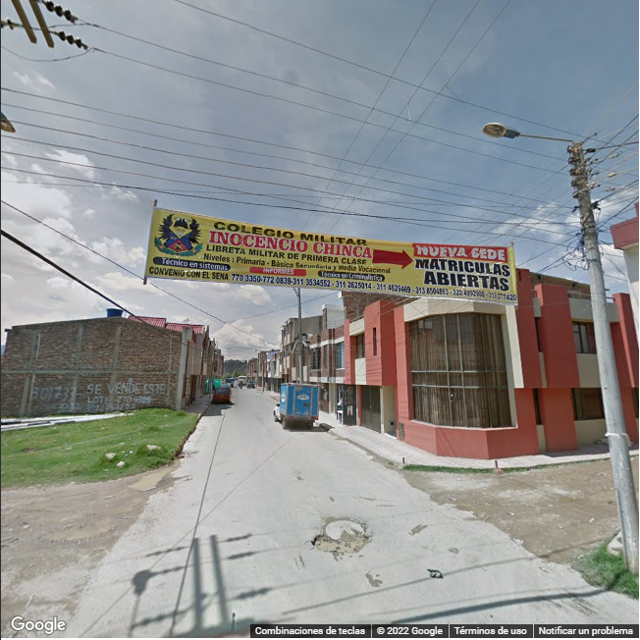D40: (308, 533, 368, 553)
